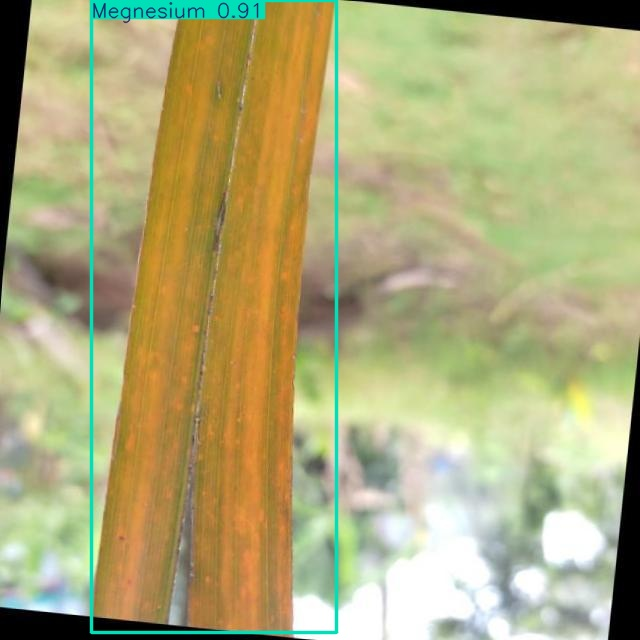Megnesium: (92, 0, 336, 633)
